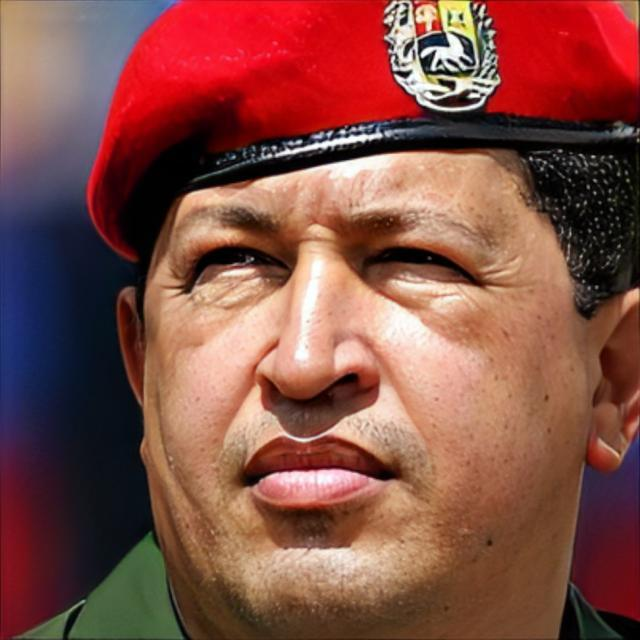disgust: (141, 142, 591, 640)
